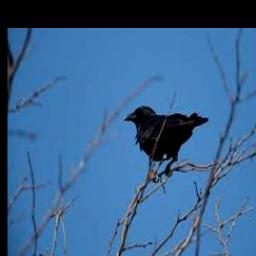Crow: (122, 105, 208, 176)
